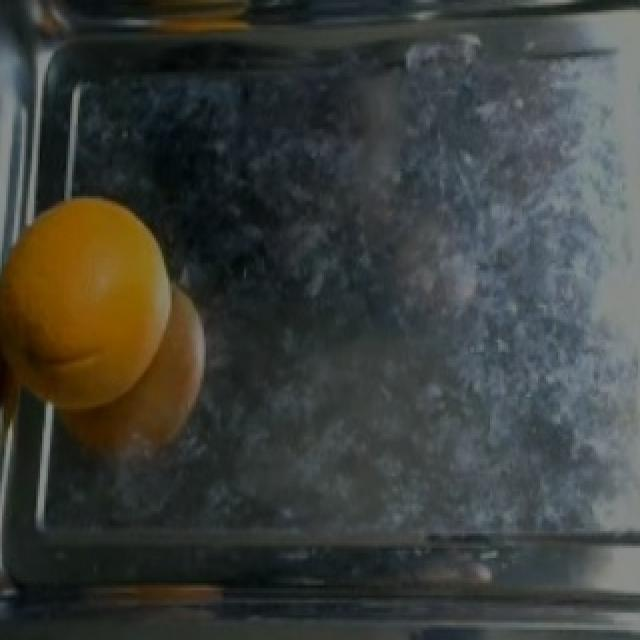Fruit: (2, 181, 182, 429)
